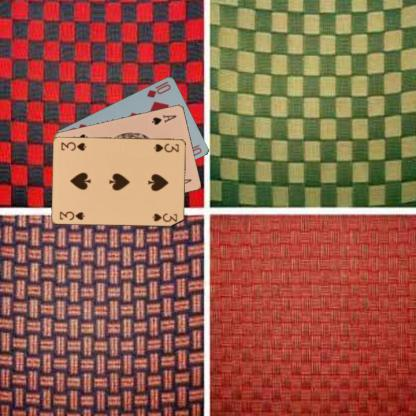10d: (144, 78, 172, 98)
3s: (152, 140, 180, 154), (57, 209, 86, 221)
As: (150, 111, 178, 126)
